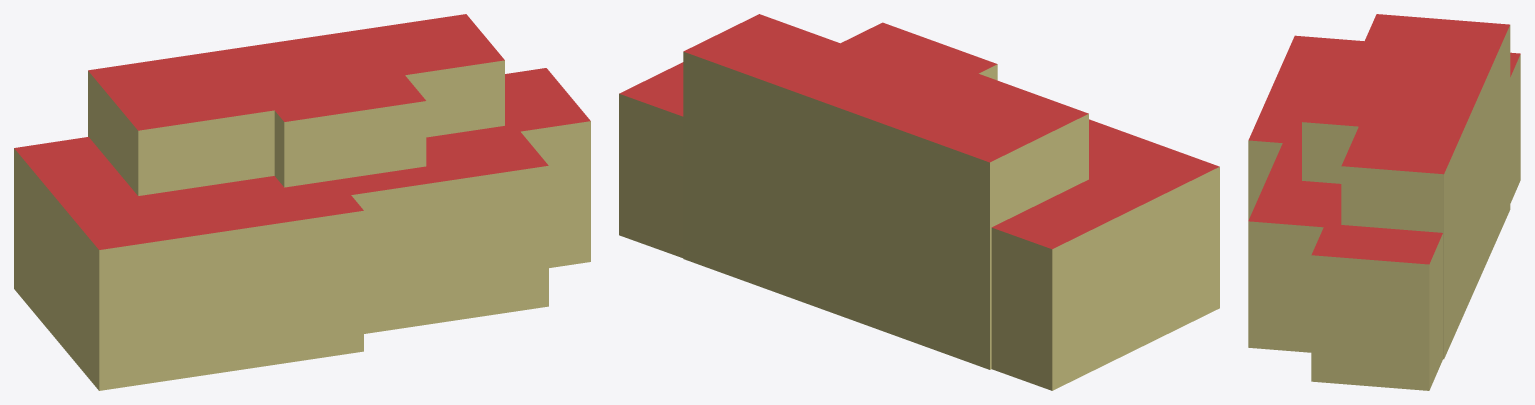
The picture shows the model from 3 angles, left to right: view 1: azimuth 30°, elevation 25°; view 2: azimuth 150°, elevation 25°; view 3: azimuth 270°, elevation 25°; orthographic projection. The views are drawn at different scales.
Bounding box in the file's own units: 25.69 × 12.93 × 9.69.
